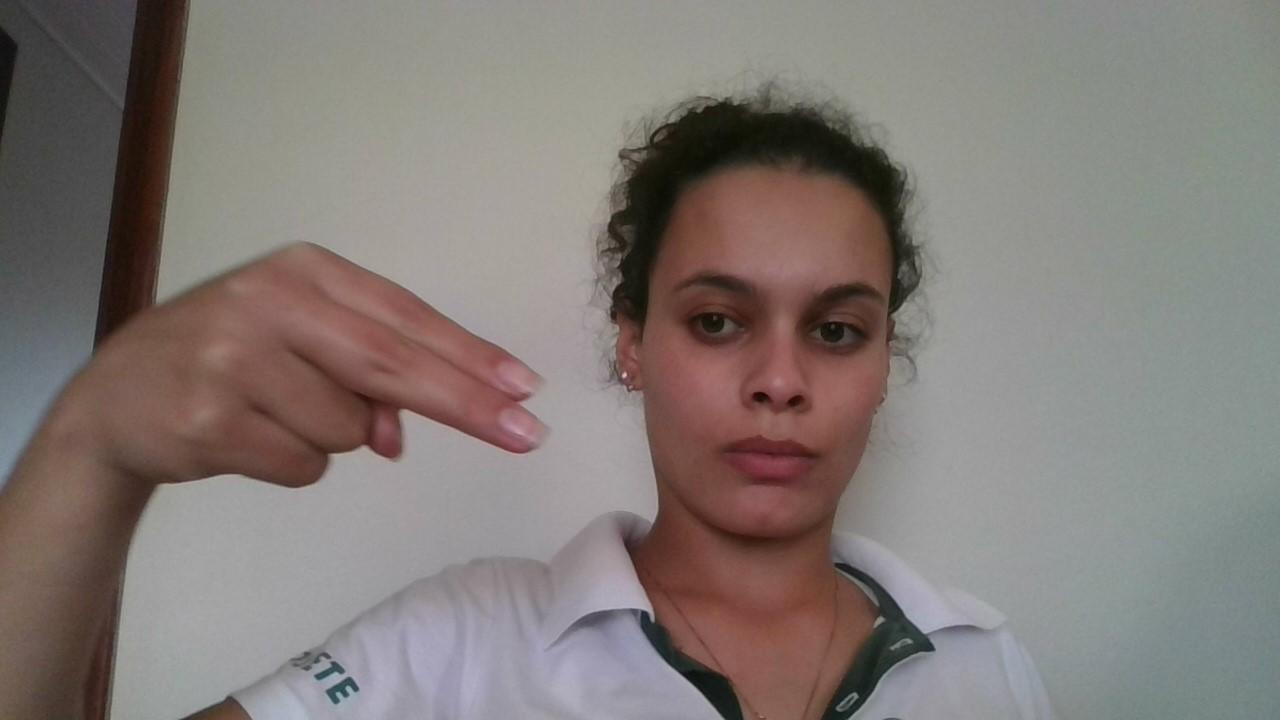N: (104, 240, 558, 492)
